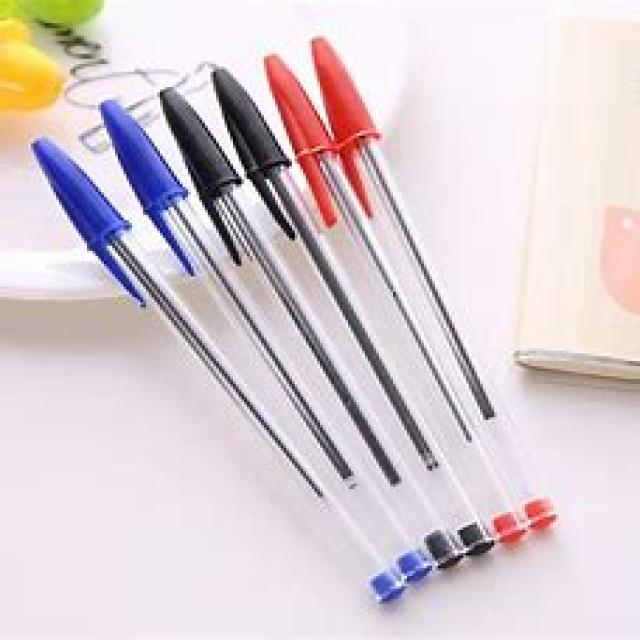pen: (29, 36, 561, 607)
